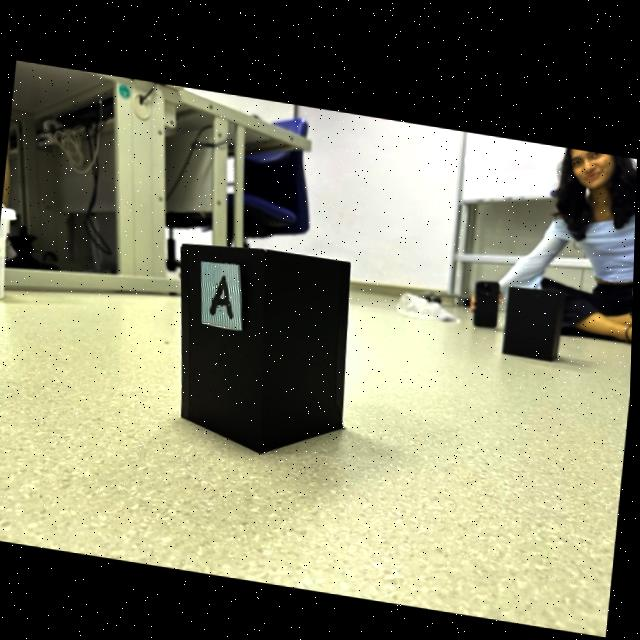A: (211, 271, 233, 313)
